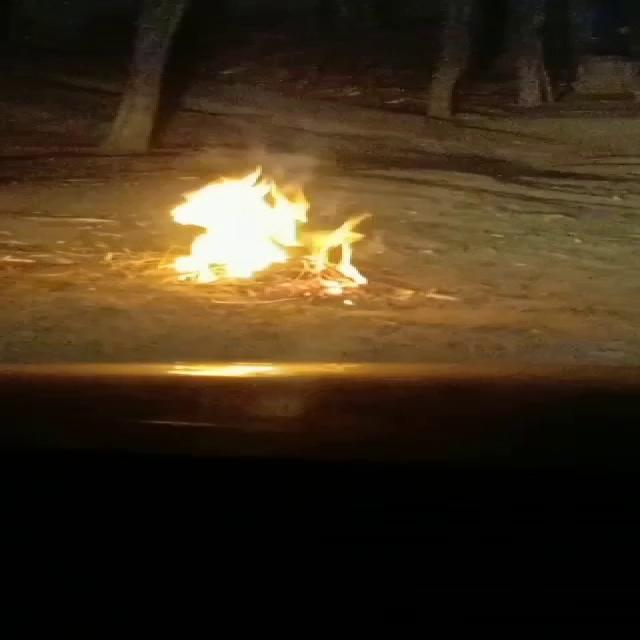Fire: (164, 166, 368, 287)
